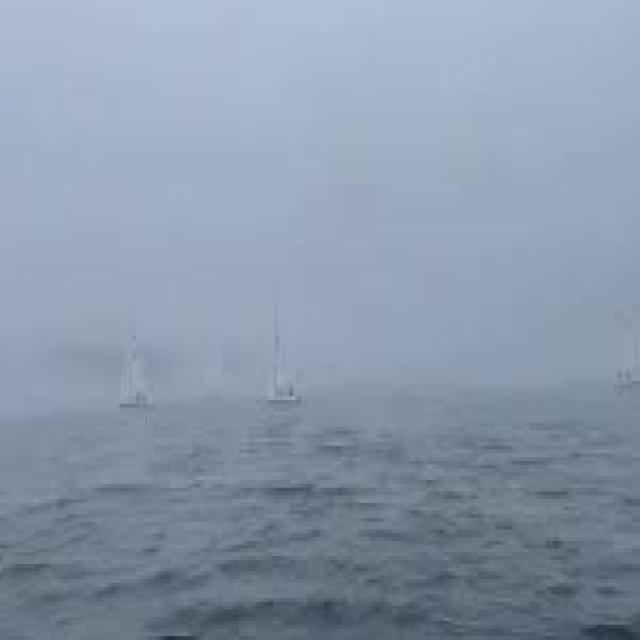sailboat: (247, 292, 309, 421), (113, 306, 169, 417)
